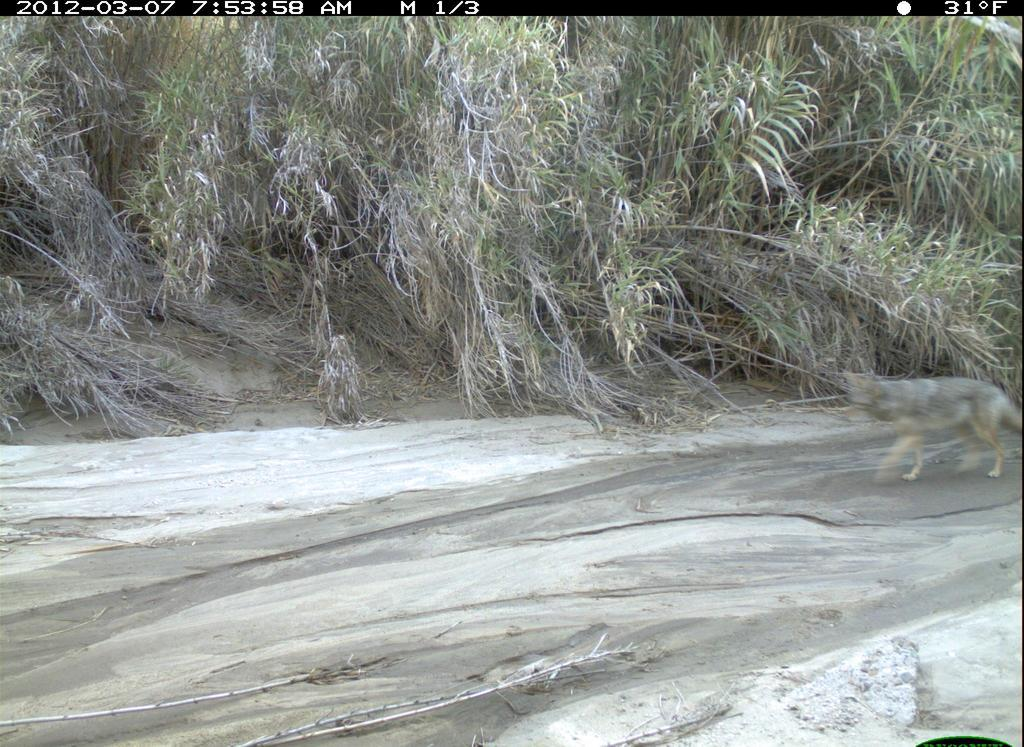coyote: (818, 346, 1023, 501)
